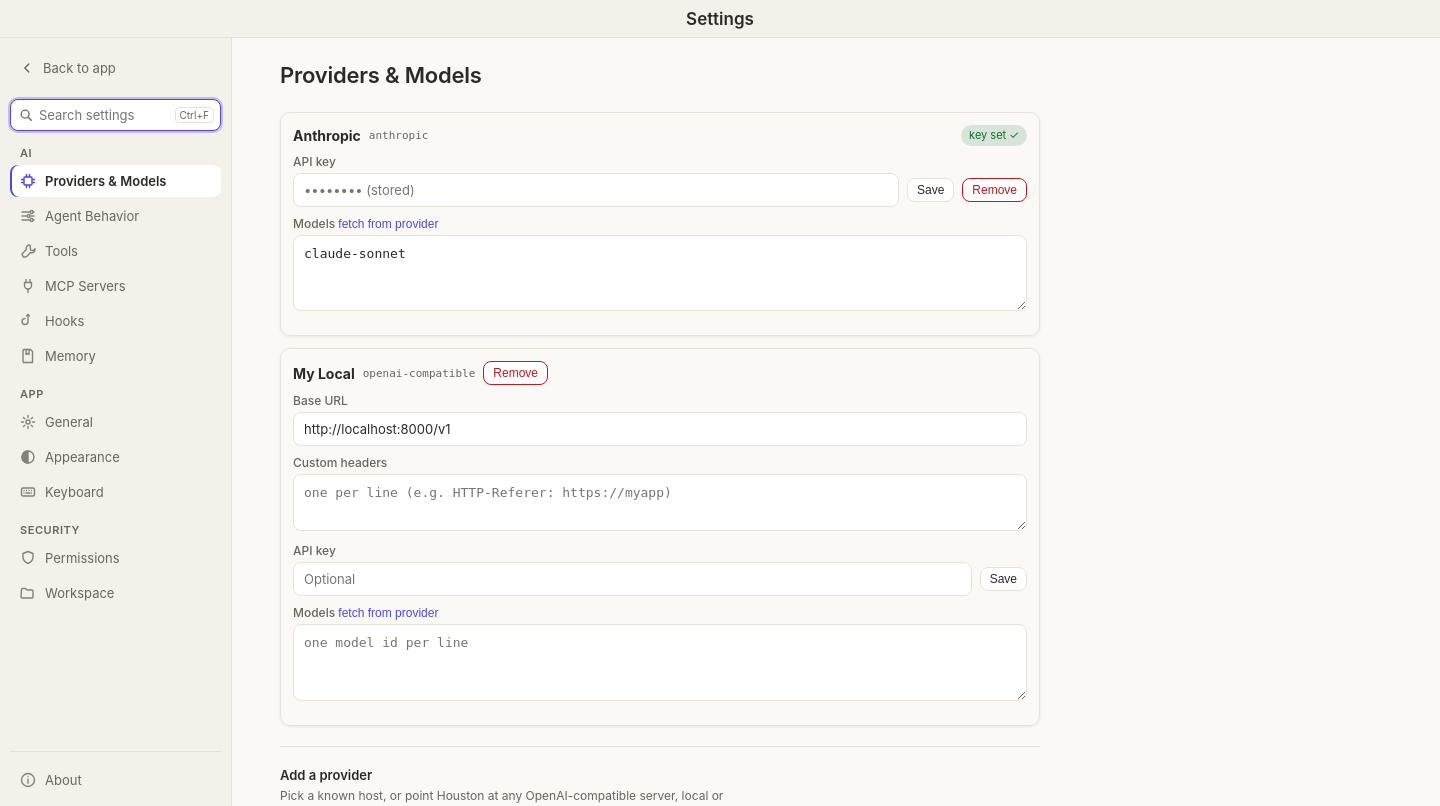
Test: SettingsModal › reports gh as signed in when installed and authenticated
Click the button "Tools" at (116, 251), box x1=10 y1=235 x2=221 y2=267
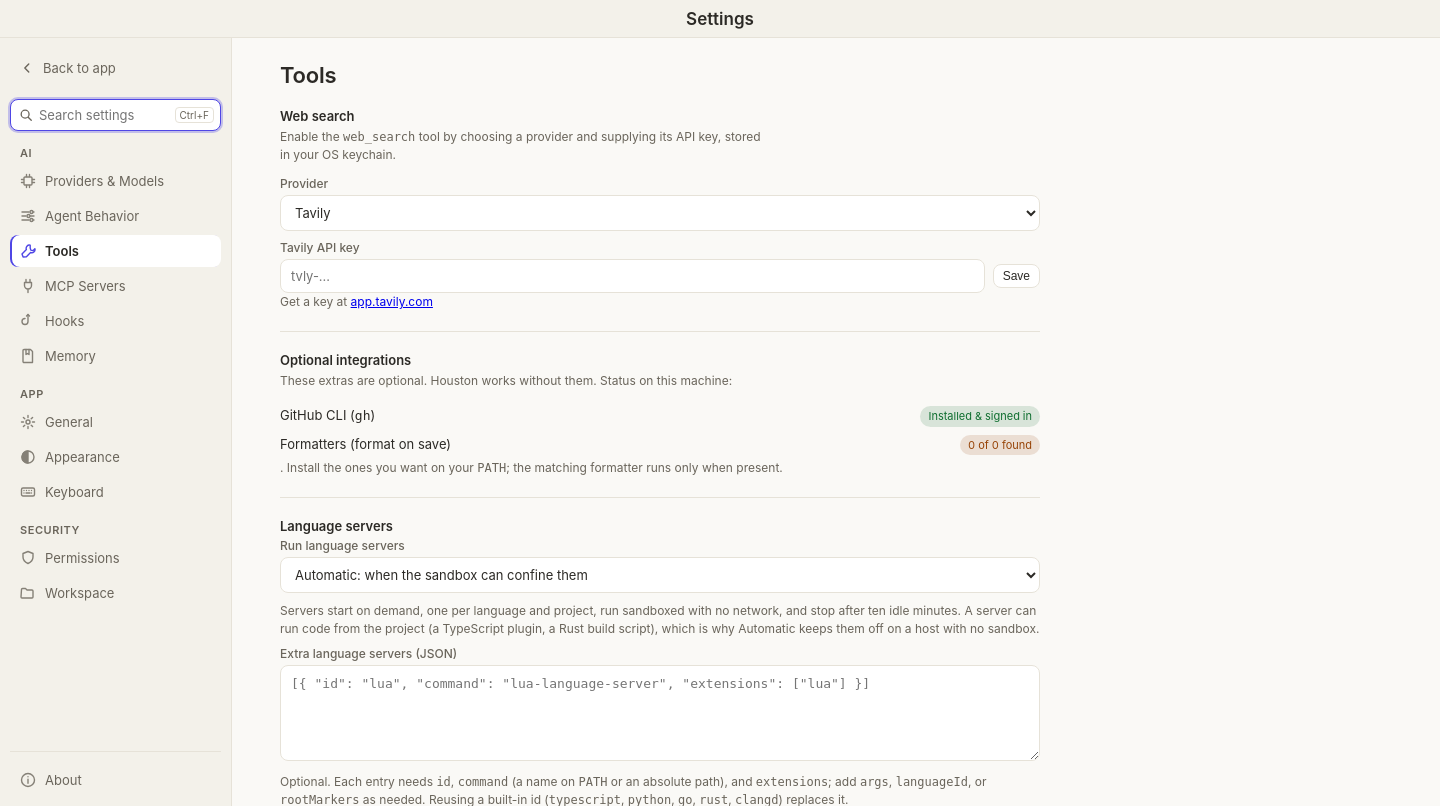
Expected: the text "Installed & signed in" is shown, x1=920 y1=406 x2=1040 y2=426
